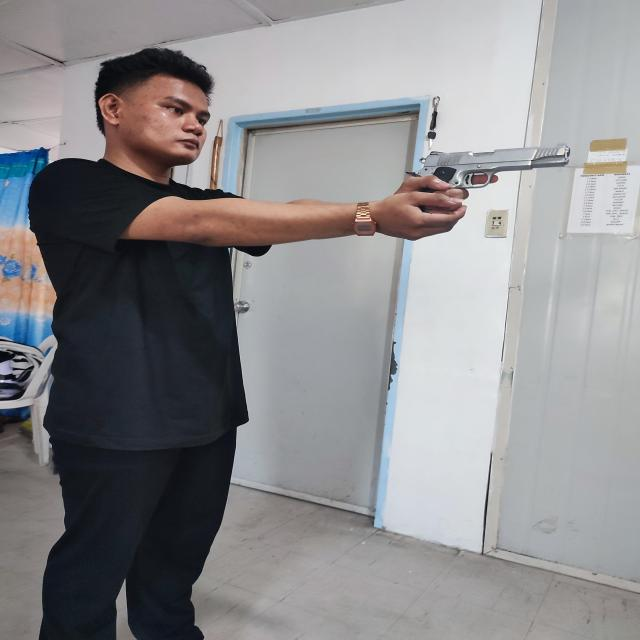pistol: (406, 143, 570, 193)
